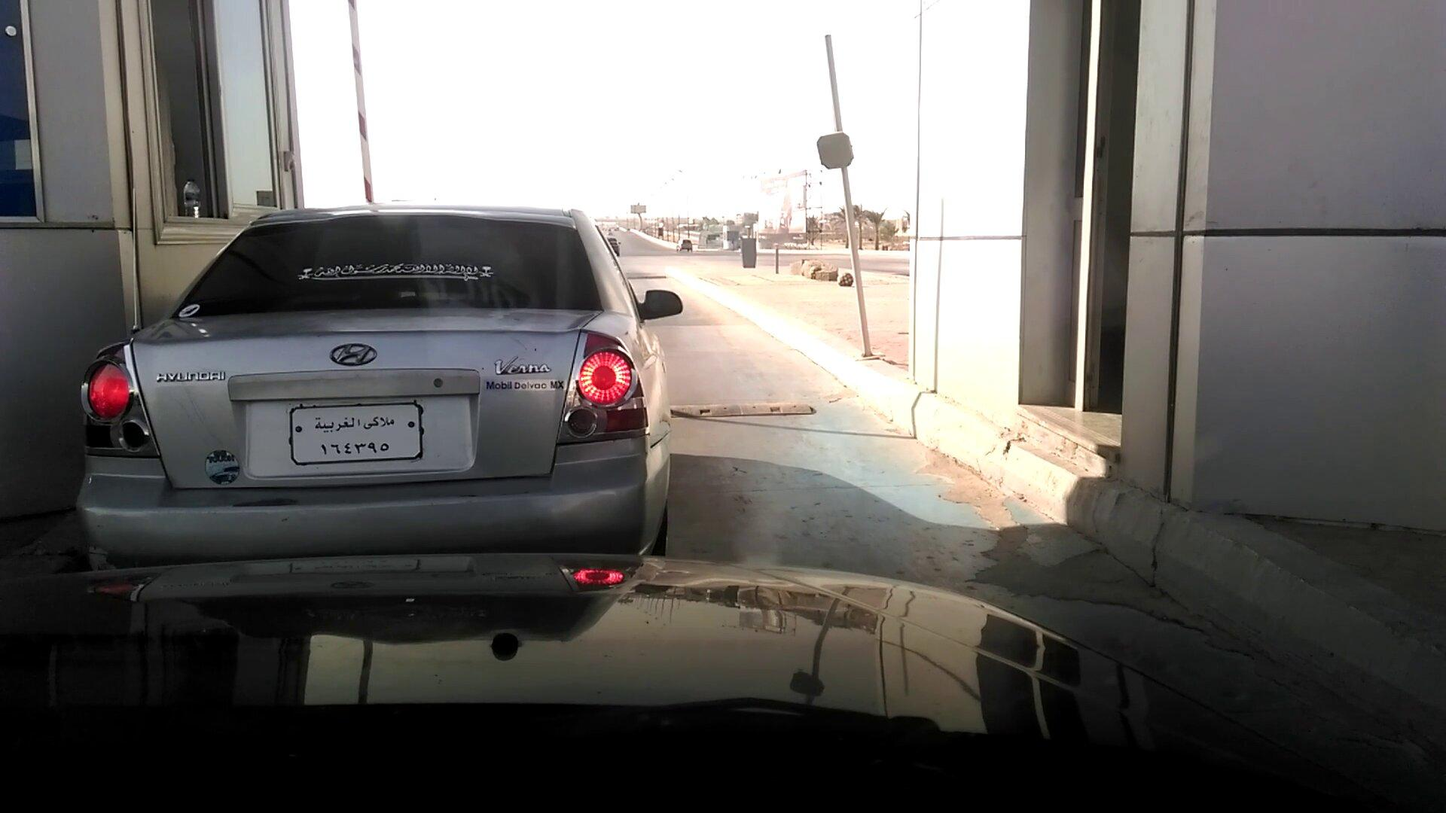Bump: (661, 399, 818, 430)
